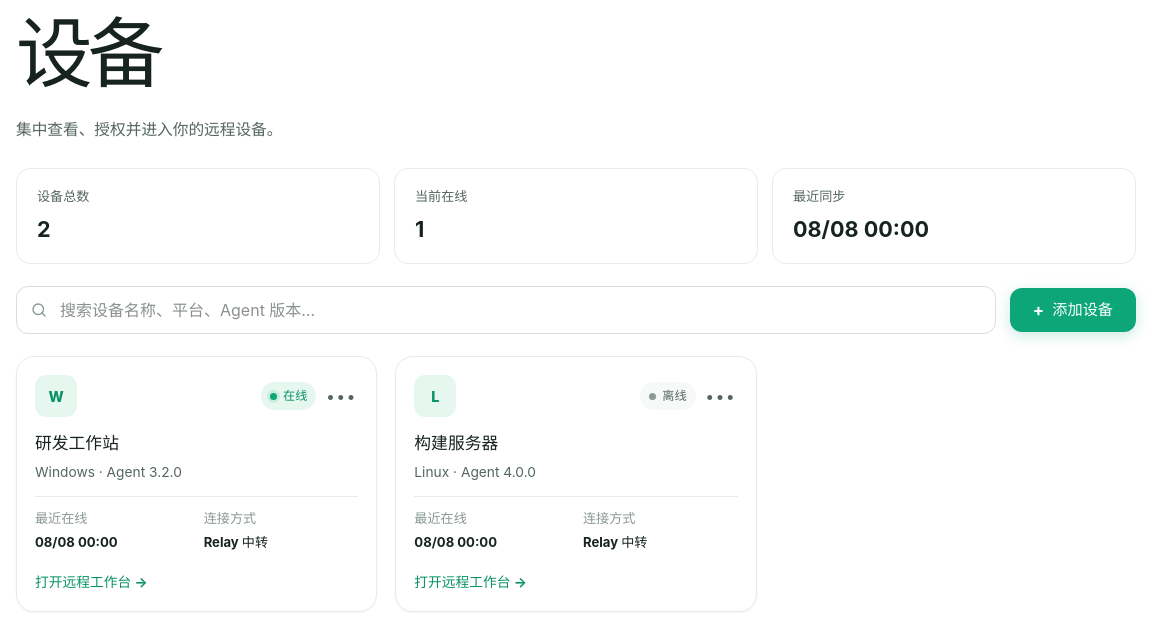
RemoteDevicesPage › filters the loaded device cards by name, platform, and agent version
In the search field with placeholder "搜索设备名称、平台、Agent 版本…": (506, 310) x1=16 y1=286 x2=996 y2=334, type "Linux"
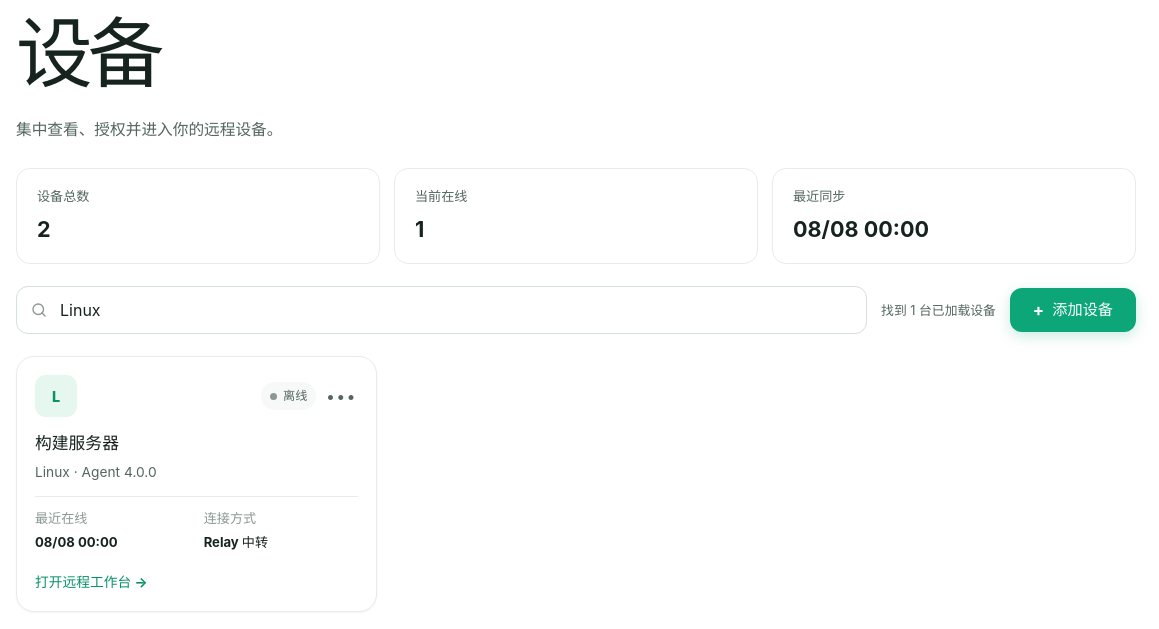
Expected: the text "构建服务器" is shown, x1=35 y1=433 x2=119 y2=453
Expected: the text "研发工作站" is gone
Expected: the text "找到 1 台已加载设备" is shown, x1=881 y1=301 x2=996 y2=320
Replace the text in the search field with "9.9.9": (442, 310) x1=16 y1=286 x2=867 y2=334
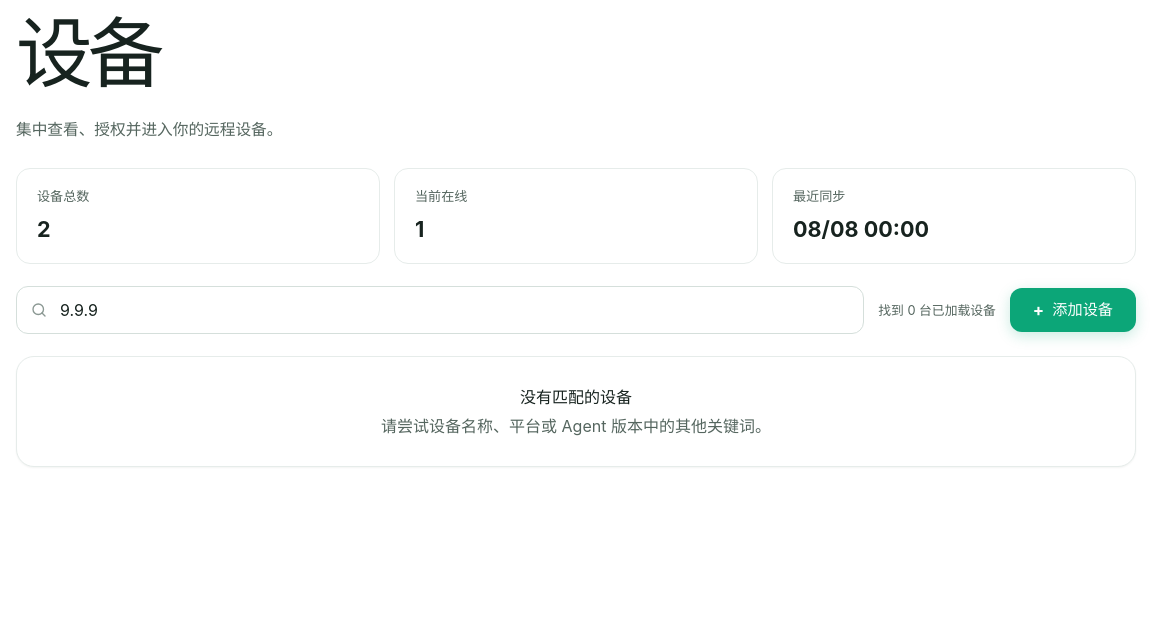
Expected: the text "没有匹配的设备" is shown, x1=520 y1=387 x2=632 y2=407
